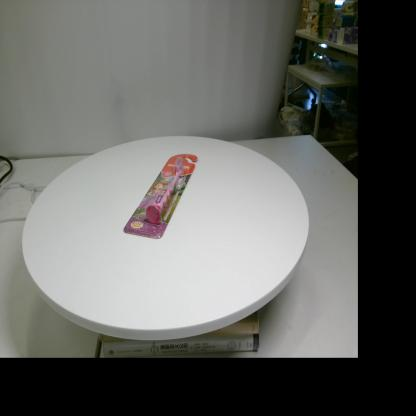Personal Hygiene: (123, 154, 198, 238)
